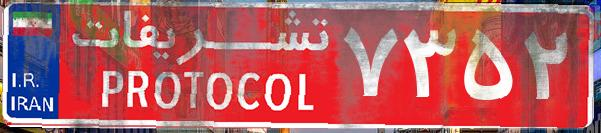2: (520, 20, 580, 115)
3: (400, 20, 460, 115)
5: (460, 20, 520, 115)
7: (340, 20, 400, 115)
تشریفات: (60, 8, 340, 125)
